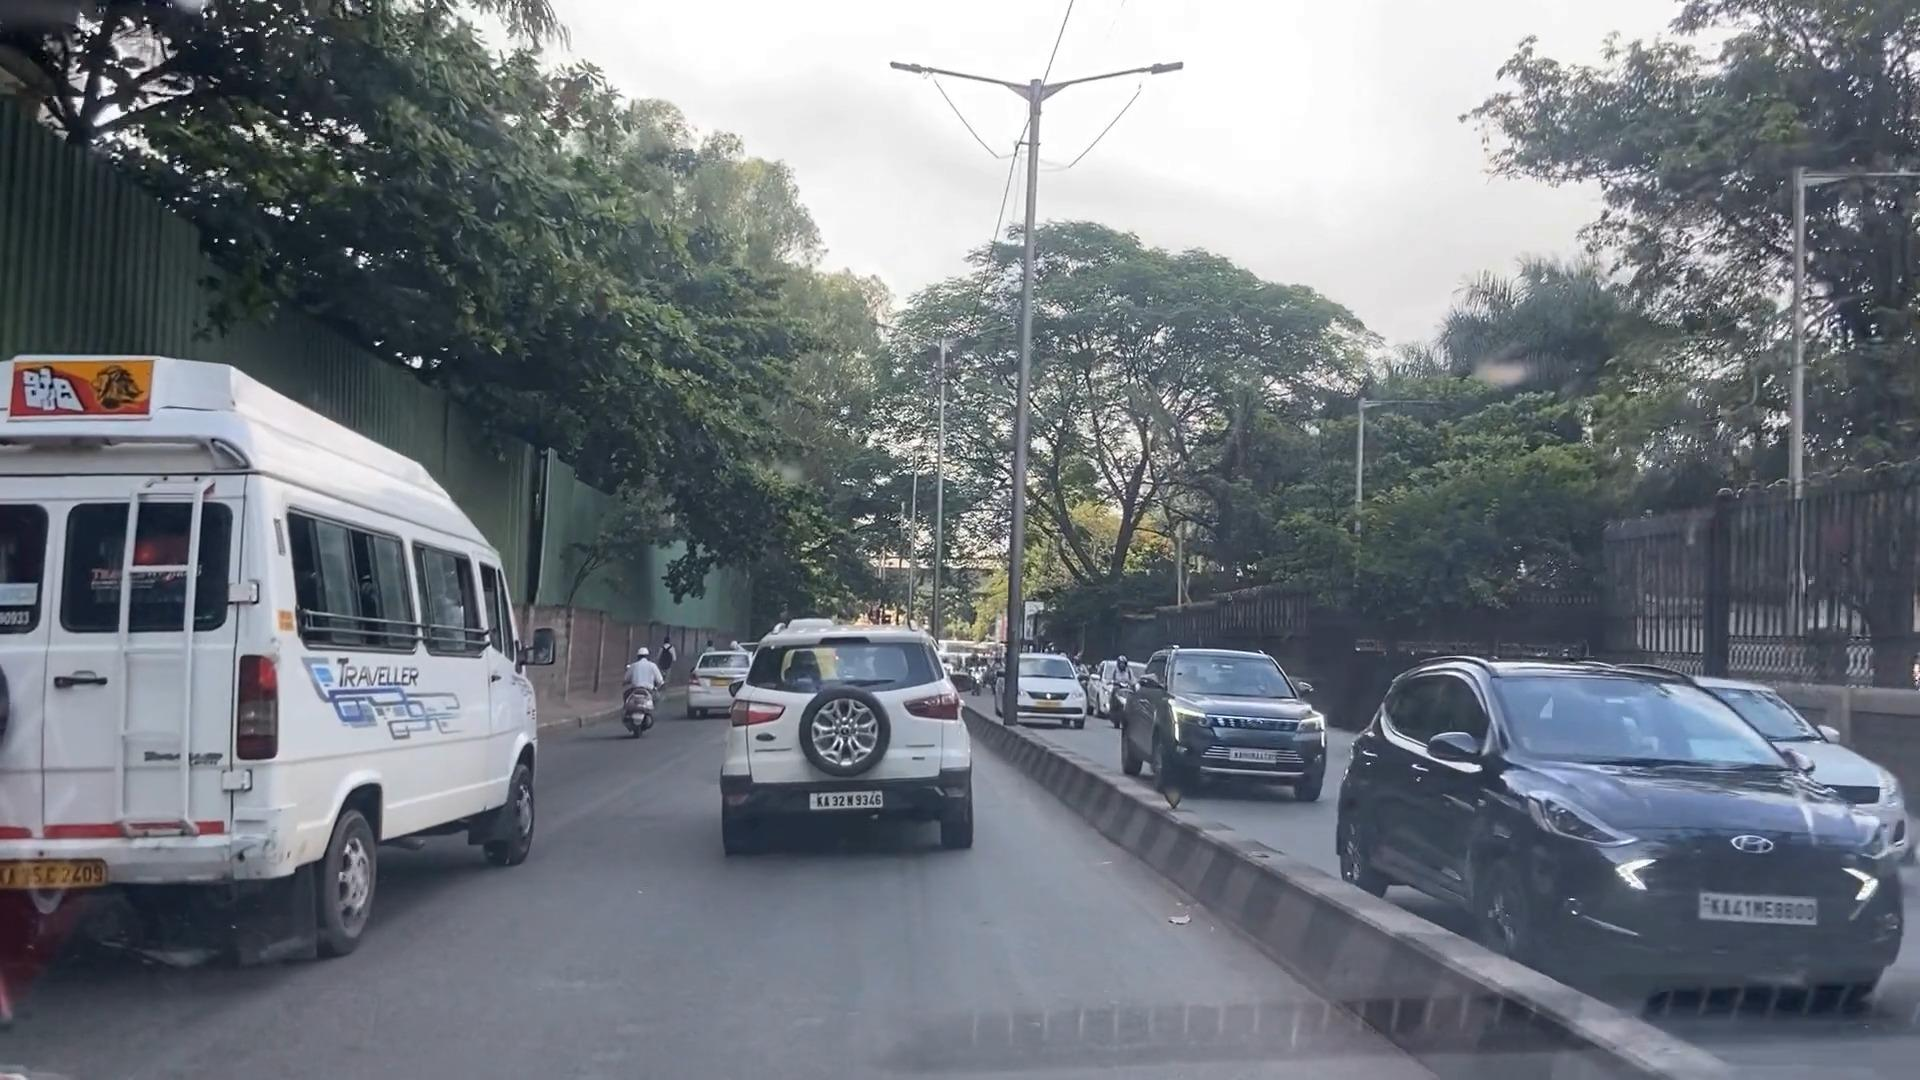HMV: (3, 368, 543, 943)
LMV: (725, 633, 969, 856)
